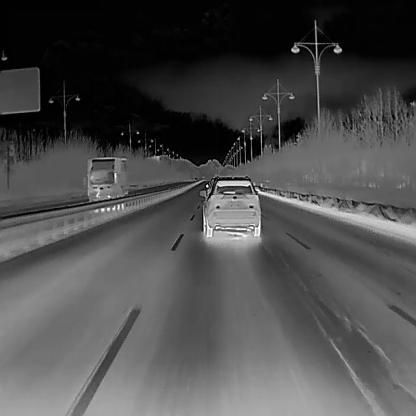car: (198, 175, 260, 239)
truck: (85, 154, 126, 202)
